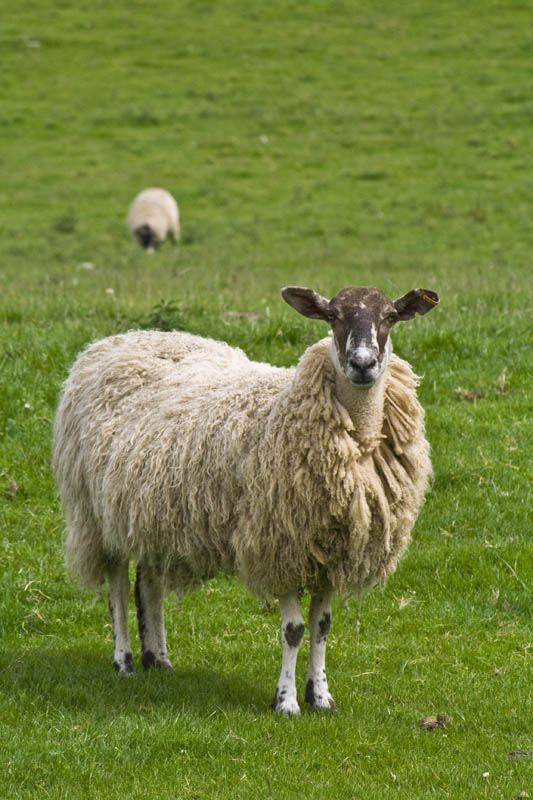sheep: (32, 287, 472, 745)
